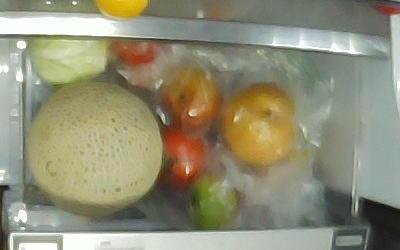cabbage: (29, 37, 116, 82)
melon: (29, 81, 163, 215)
pear: (223, 83, 299, 165)
prune_vinyl: (158, 69, 223, 128)
tomato: (153, 129, 205, 189), (186, 174, 237, 229)
tomato_vinyl: (108, 40, 159, 66)
